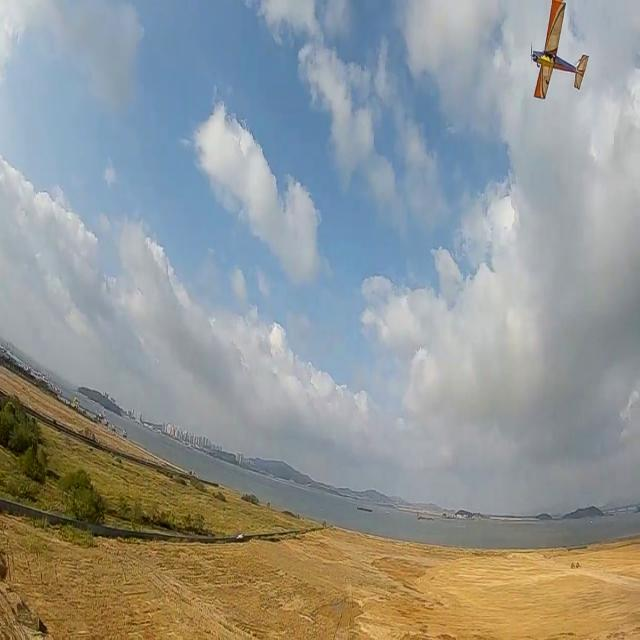iha: (553, 32, 558, 82)
